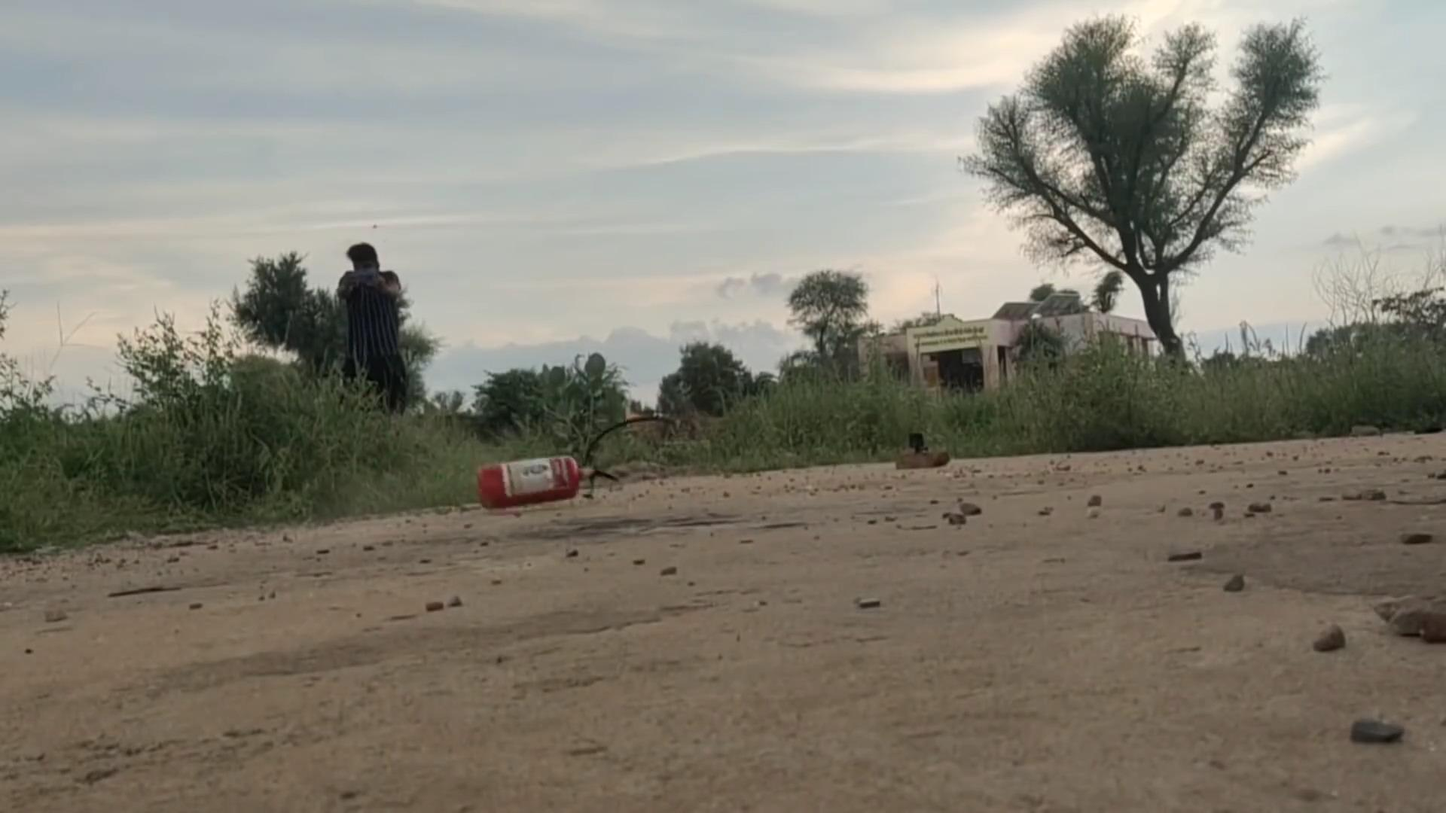FireExtinguisher: (471, 443, 595, 520)
